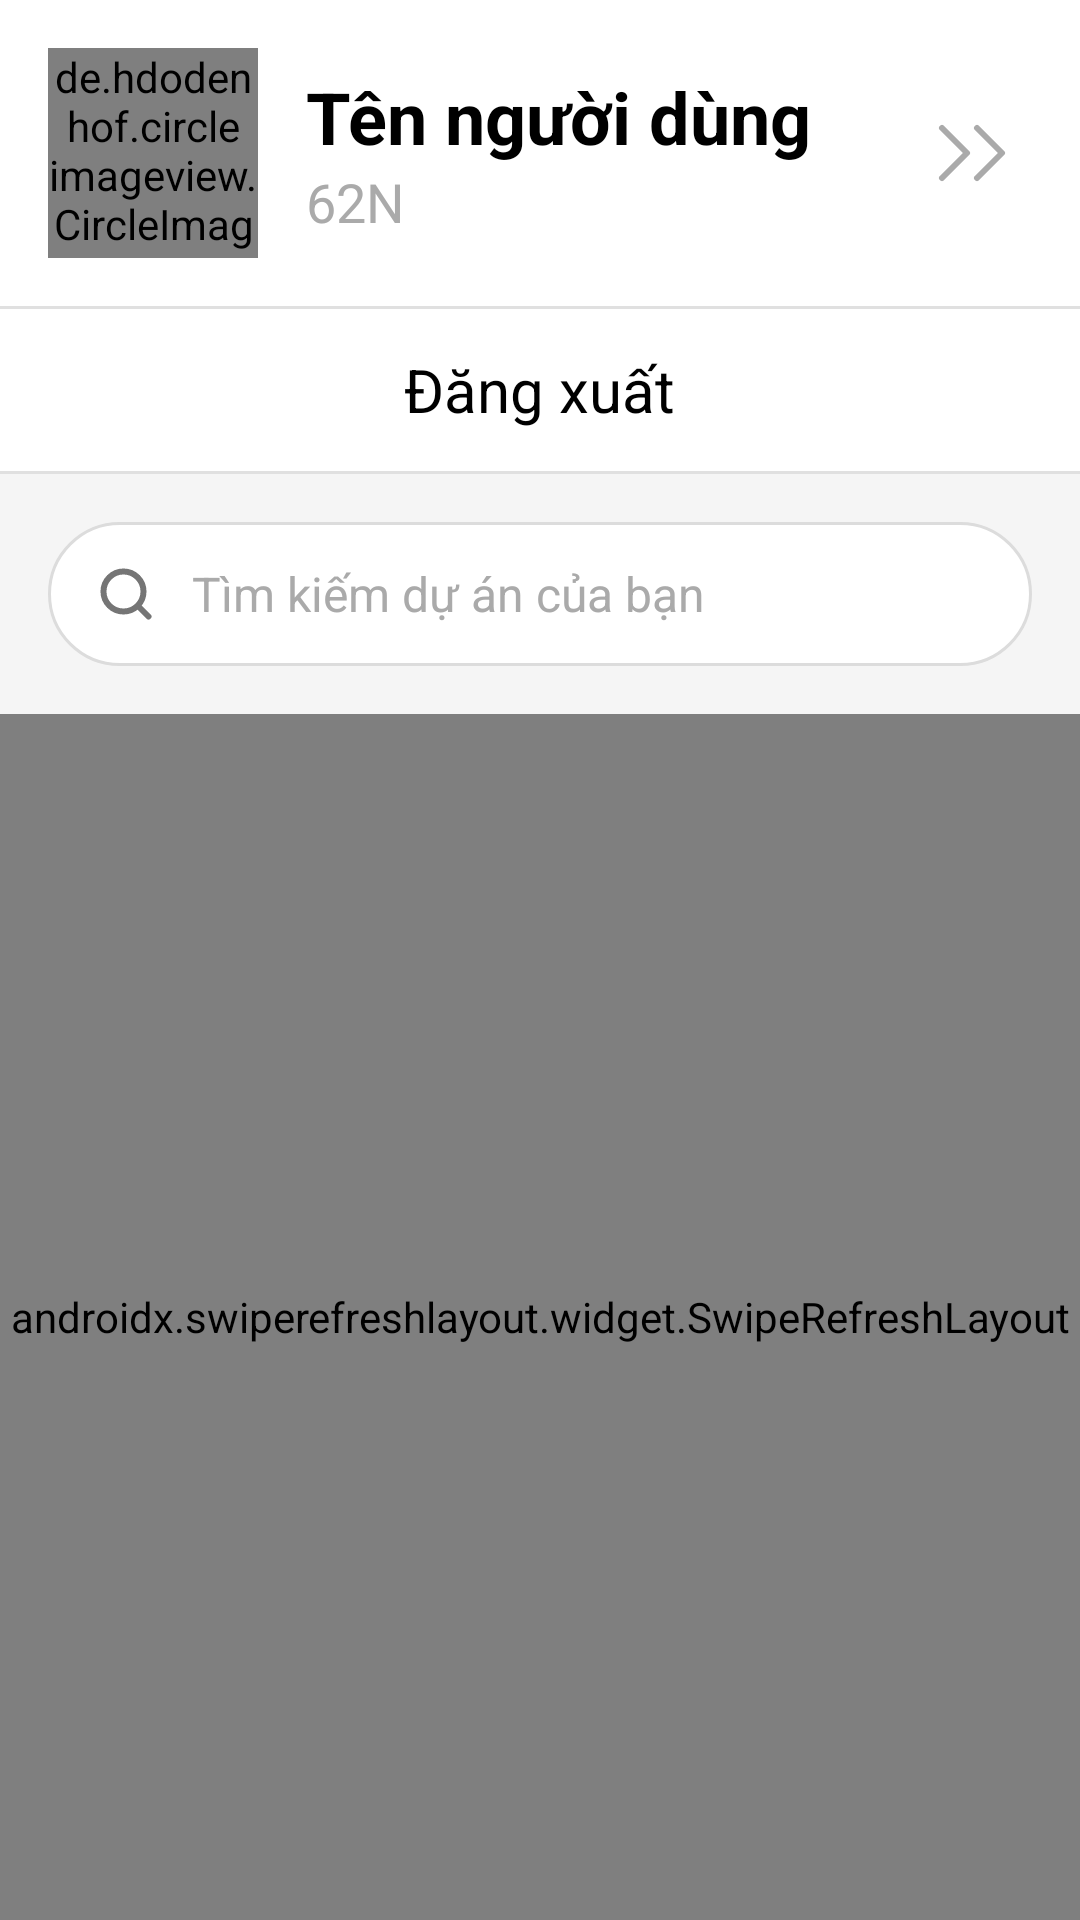

Where icons sit on this 1080px x 1920px app screen, as (x1, y1, x2, y2):
arrow forward: (939, 125, 1005, 181)
